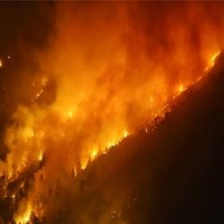fire: (150, 47, 219, 127), (64, 110, 141, 172), (12, 125, 52, 224)
